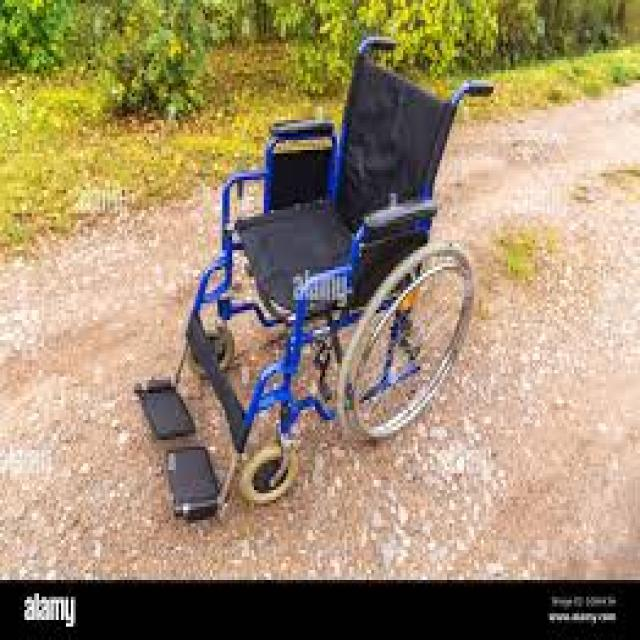wheelchairs: (144, 30, 498, 527)
